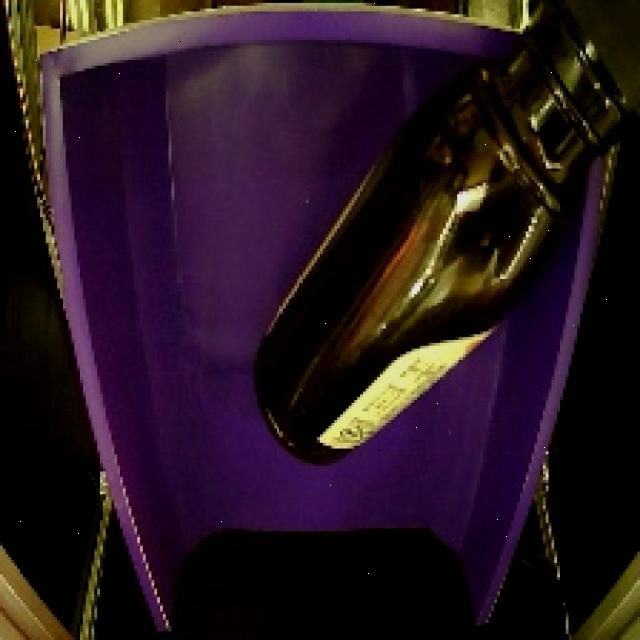plastic: (243, 0, 640, 497)
